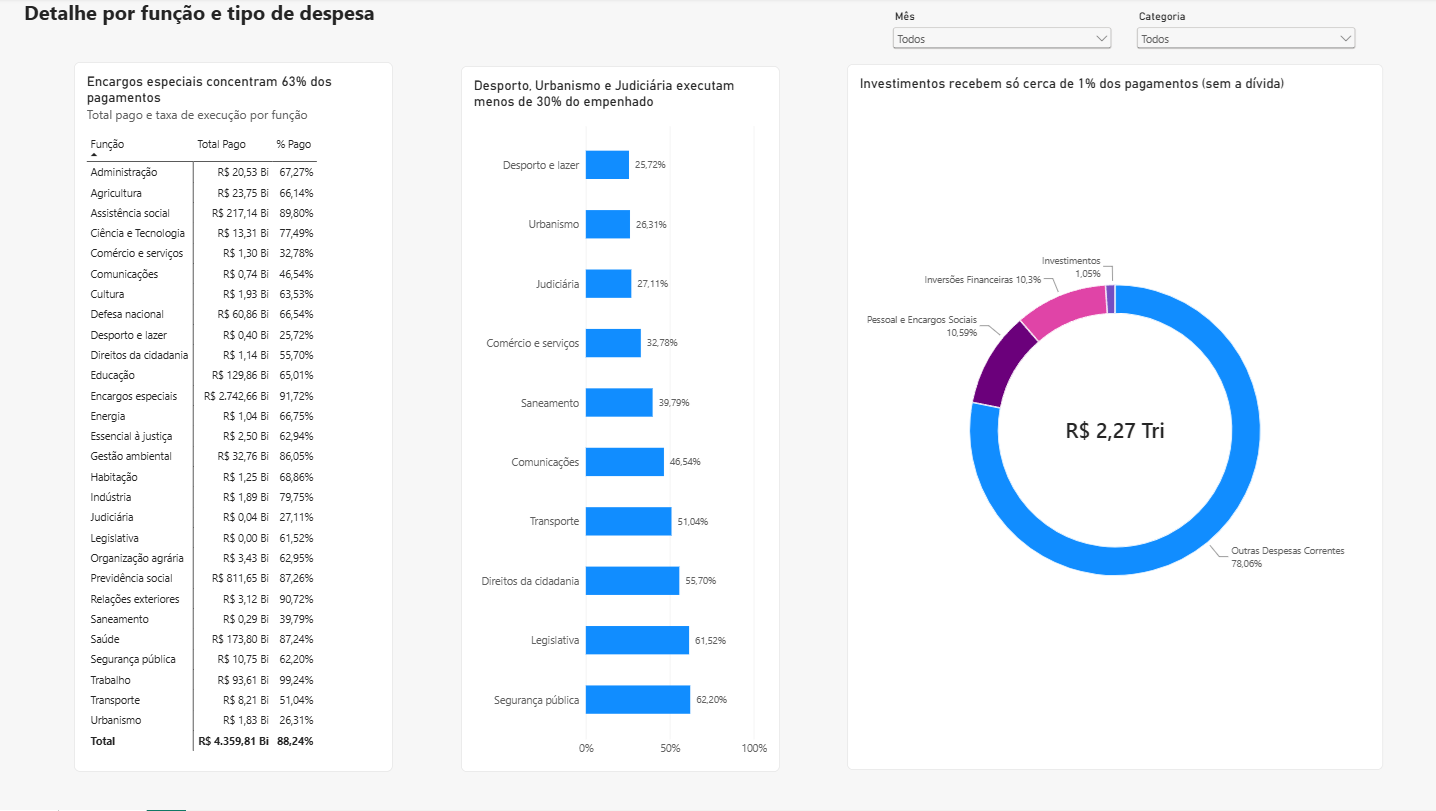

This screenshot's page, from the dashboard's own definition file:
{"tool":"powerbi","page":{"name":"Página 2","canvas":[1920,1080],"ordinal":1},"visuals":[{"type":"pivotTable","title":"Encargos especiais concentram 63% dos pagamentos","fields":{"Rows":["fDespesas.funcao"],"Values":["_Medidas.Total Pago","_Medidas.% Pago"]},"box":[106.4,85.1,424.3,944.3],"z":0},{"type":"donutChart","title":"Investimentos recebem só cerca de 1% dos pagamentos (sem a dívida)","fields":{"Category":["fDespesas.grupo_despesa"],"Y":["_Medidas.Total Pago"]},"box":[1134.5,87.8,712.9,939],"z":1000},{"type":"clusteredBarChart","title":"Desporto, Urbanismo e Judiciária executam menos de 30% do empenhado","fields":{"Category":["fDespesas.funcao"],"Y":["_Medidas.% Pago"]},"box":[621.1,90.4,424.3,939],"z":1001},{"type":"textbox","box":[39.9,0,558.6,74.5],"z":1002},{"type":"slicer","fields":{"Values":["dCalendario.Nome do Mês"]},"box":[1190.4,16,300.6,58.5],"z":1003},{"type":"slicer","fields":{"Values":["fDespesas.categoria"]},"box":[1514.9,16,300.6,69.2],"z":1004}]}

Visuals, with their boxes in screenshot pixels (x1, y1, x2, y2), scaled from the page's 1920x1080 canvas onto the 1436x811 screenshot:
"Encargos especiais concentram 63% dos pagamentos" pivotTable: 80,64,397,773
"Investimentos recebem só cerca de 1% dos pagamentos (sem a dívida)" donutChart: 849,66,1382,771
"Desporto, Urbanismo e Judiciária executam menos de 30% do empenhado" clusteredBarChart: 465,68,782,773
textbox: 30,0,448,56
slicer - dCalendario.Nome do Mês: 890,12,1115,56
slicer - fDespesas.categoria: 1133,12,1358,64
